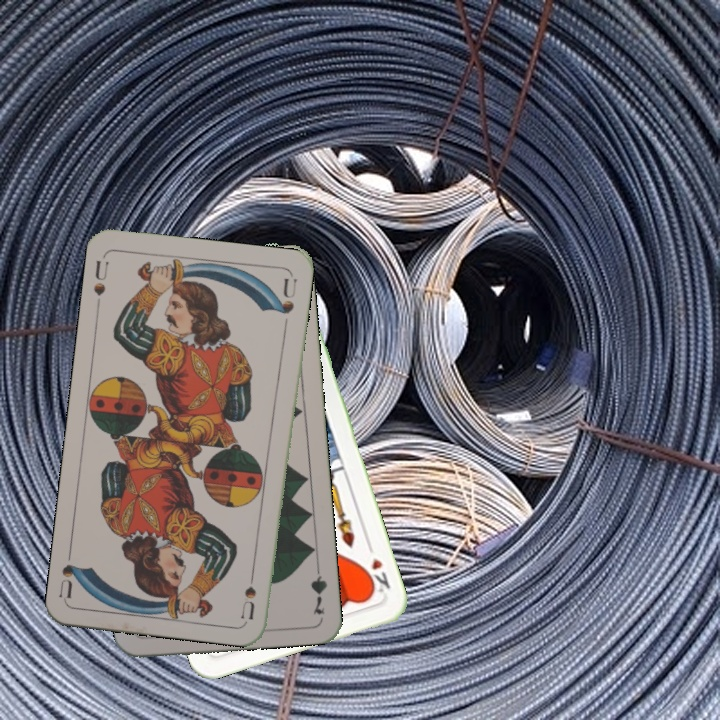G7: (306, 558, 330, 617)
HK: (361, 554, 393, 596)
SU: (238, 561, 259, 621), (89, 256, 111, 298)
